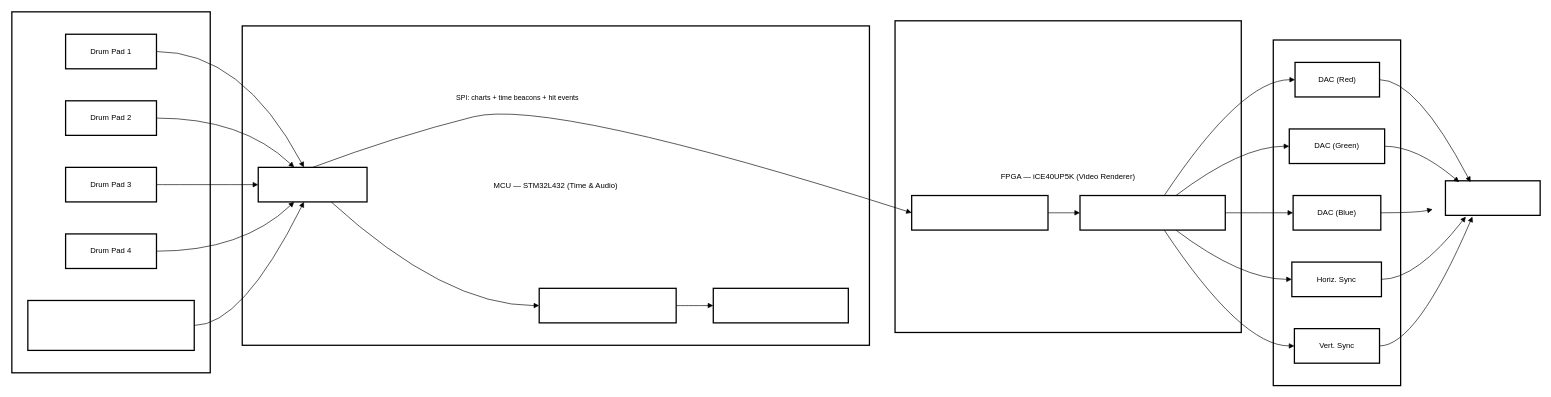
Some shapes in this 1551 by 397 pixel diagram are drawn without their labels. Each missing label, with the centre of its shape:
"Audio Amp + Speaker" belongs at pixel 780 305.
"Buttons (Start / Select / Pause)" belongs at pixel 111 325.
"DFPlayer Mini (Audio)" belongs at pixel 607 305.
"Game Logic / Scoring" belongs at pixel 979 212.
"Main Controller" belongs at pixel 312 184.
"VGA Monitor" belongs at pixel 1492 198.
"VGA Timing & Renderer" belongs at pixel 1152 212.
